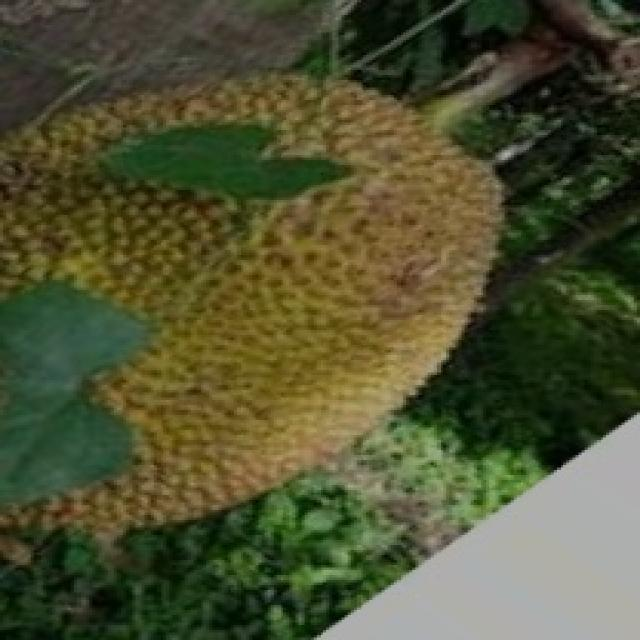Fruit: (212, 8, 566, 458)
